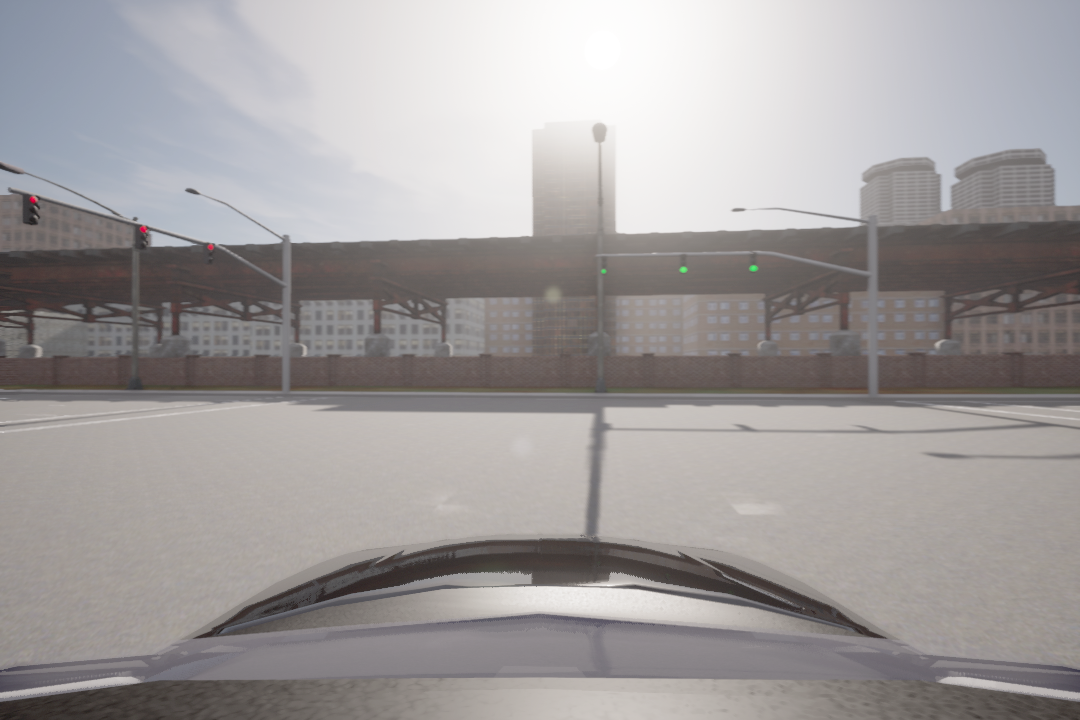TrafficLight: (20, 191, 39, 225), (201, 241, 217, 266), (134, 222, 148, 250), (747, 251, 761, 275), (678, 252, 690, 278), (598, 254, 610, 278)
